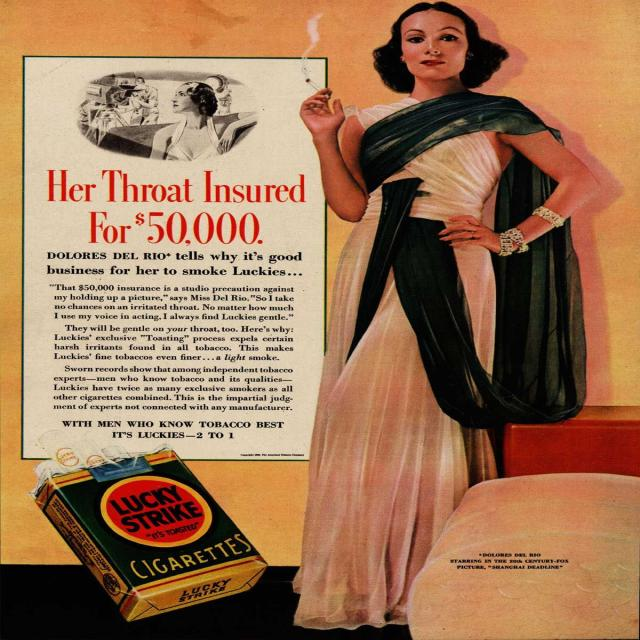Smooking: (302, 66, 324, 94)
